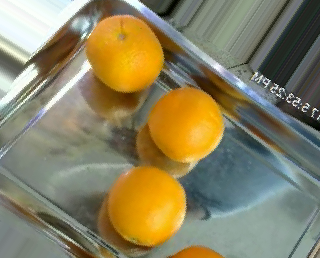Orange: (107, 165, 187, 245), (86, 13, 165, 92), (147, 85, 224, 163)
